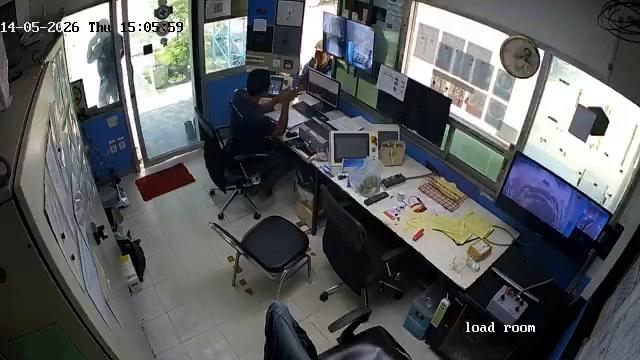Head: (246, 68, 272, 101)
People: (224, 67, 293, 199)
